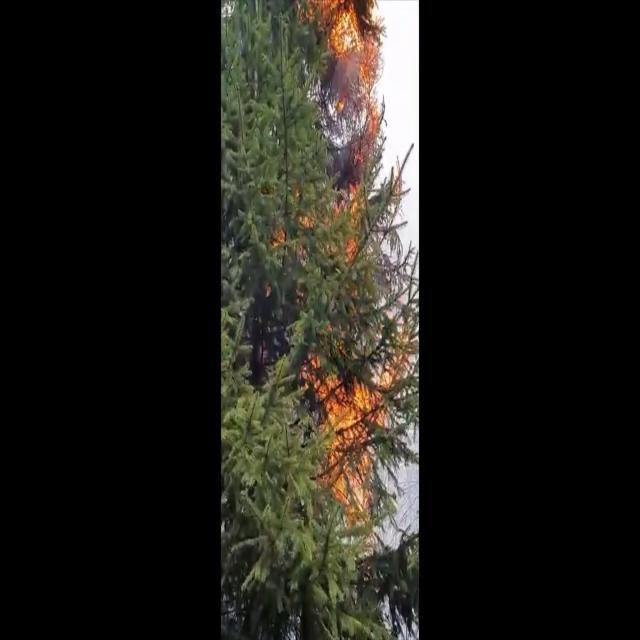Fire: (286, 358, 410, 526), (321, 1, 386, 102)
